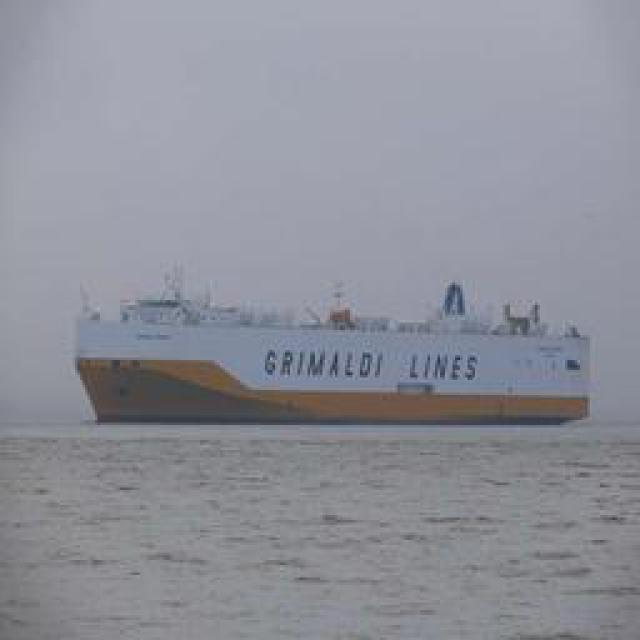Ship: (84, 272, 587, 425)
